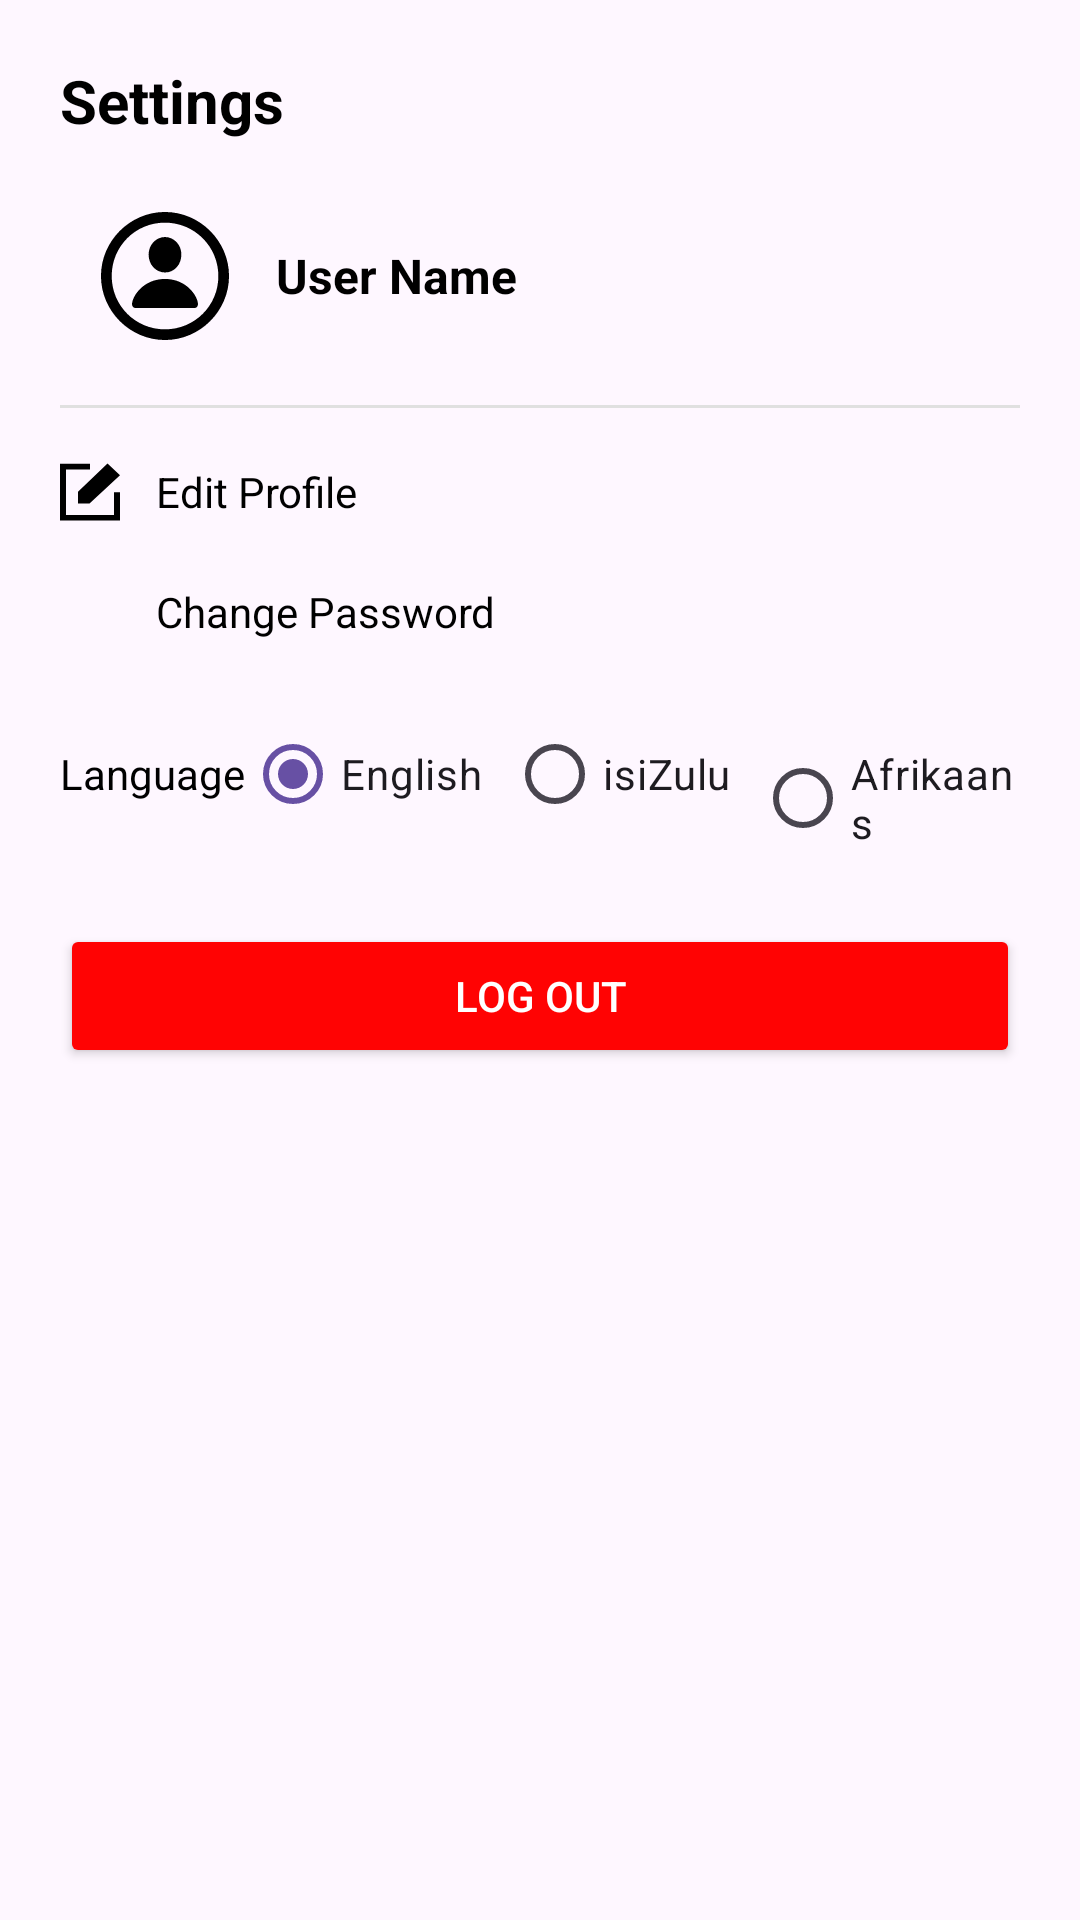

Where icons sit on this 1080 × 1920 app screen, as (x1, y1, x2, y2):
person: (101, 212, 229, 340)
